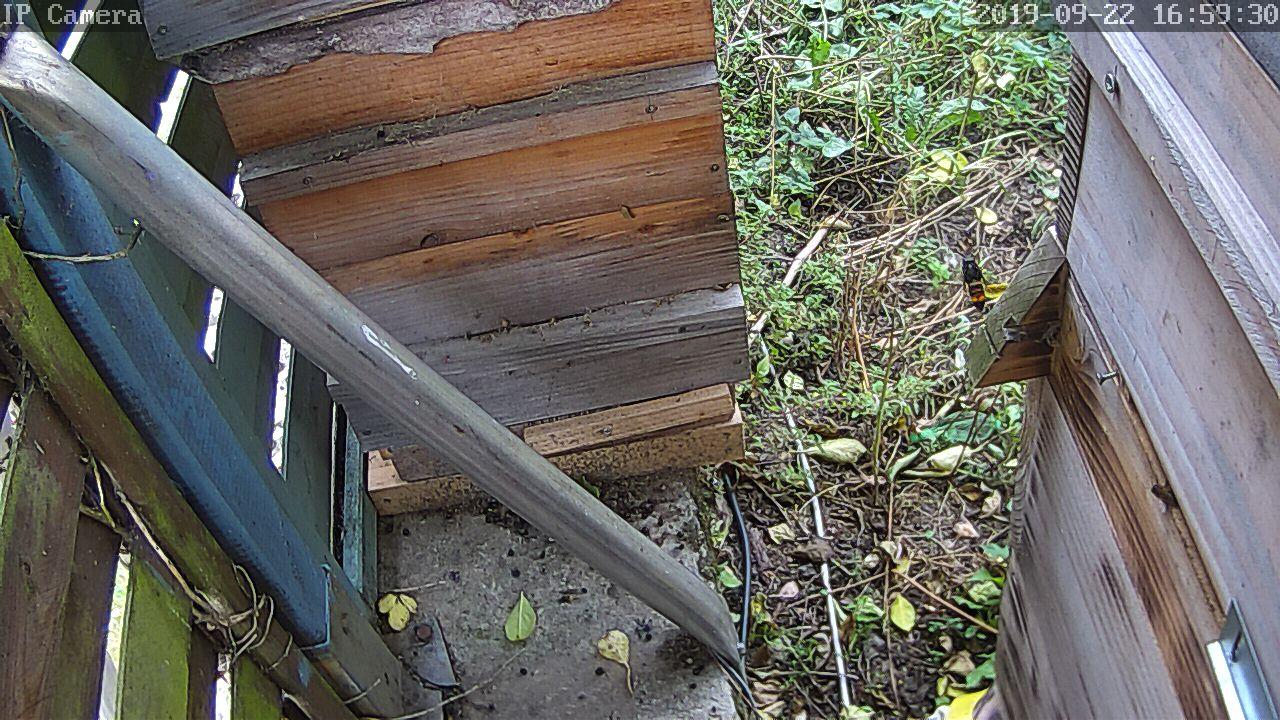bee: (1147, 476, 1185, 513)
hornet: (946, 249, 1009, 312)
